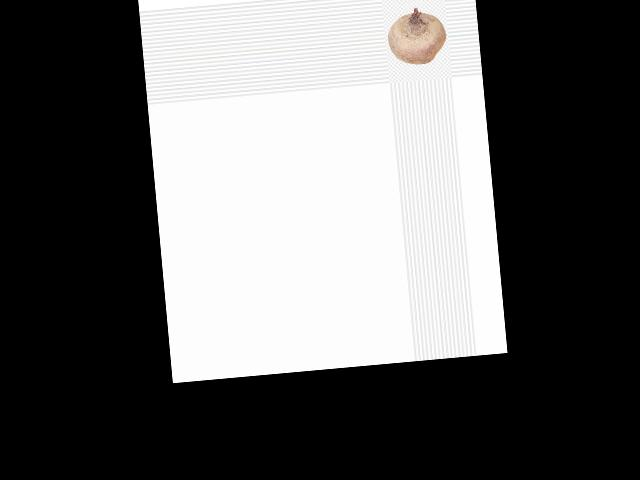beet: (386, 4, 448, 66)
